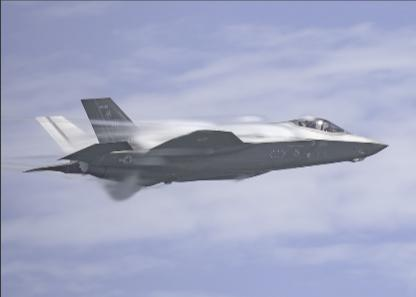F22: (20, 96, 388, 186)
